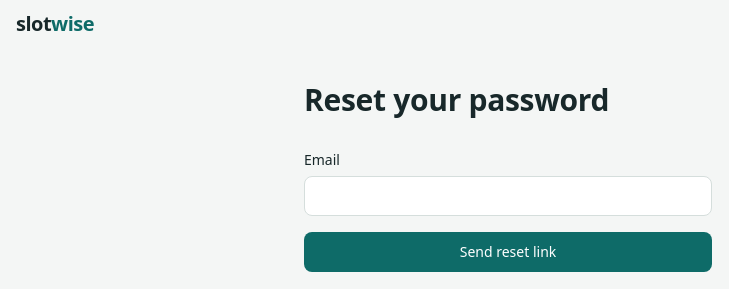
Scenario: forgot password › says the link is on its way, whether or not the account exists
Type "someone@example.com" into the field labelled "Email". click: (508, 196)
box: top-left (304, 176), bottom-right (712, 216)
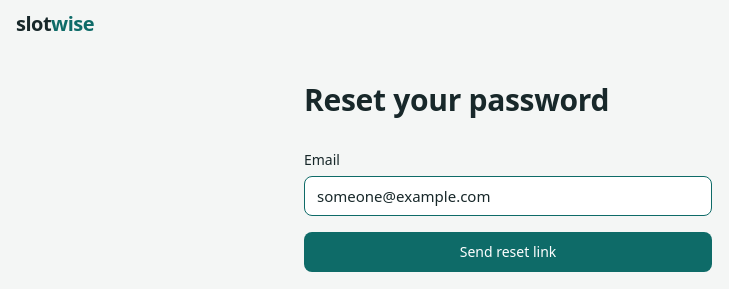
Click the button "Send reset link". click: (508, 252)
box: top-left (304, 232), bottom-right (712, 272)
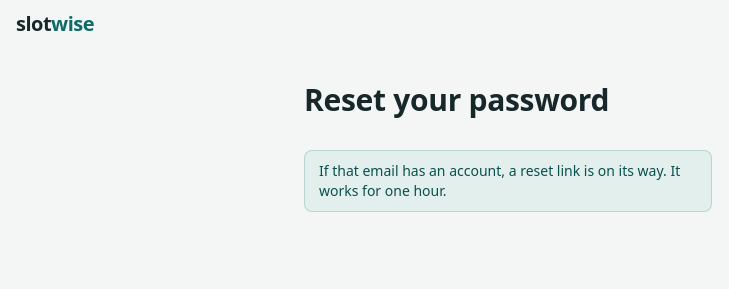
expect the text "a reset link is on its way" is shown: met, box top-left (319, 161), bottom-right (680, 200)
